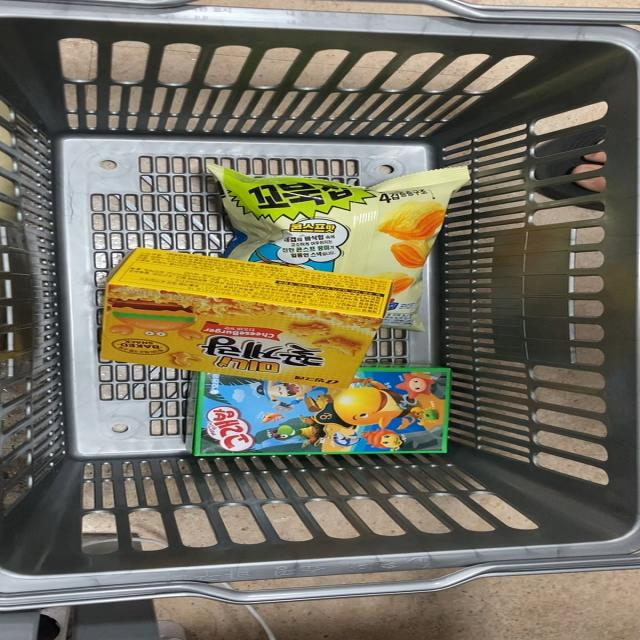ggobukchip: (197, 167, 470, 258)
goraebob: (173, 364, 487, 456)
minicrab: (99, 252, 401, 378)
